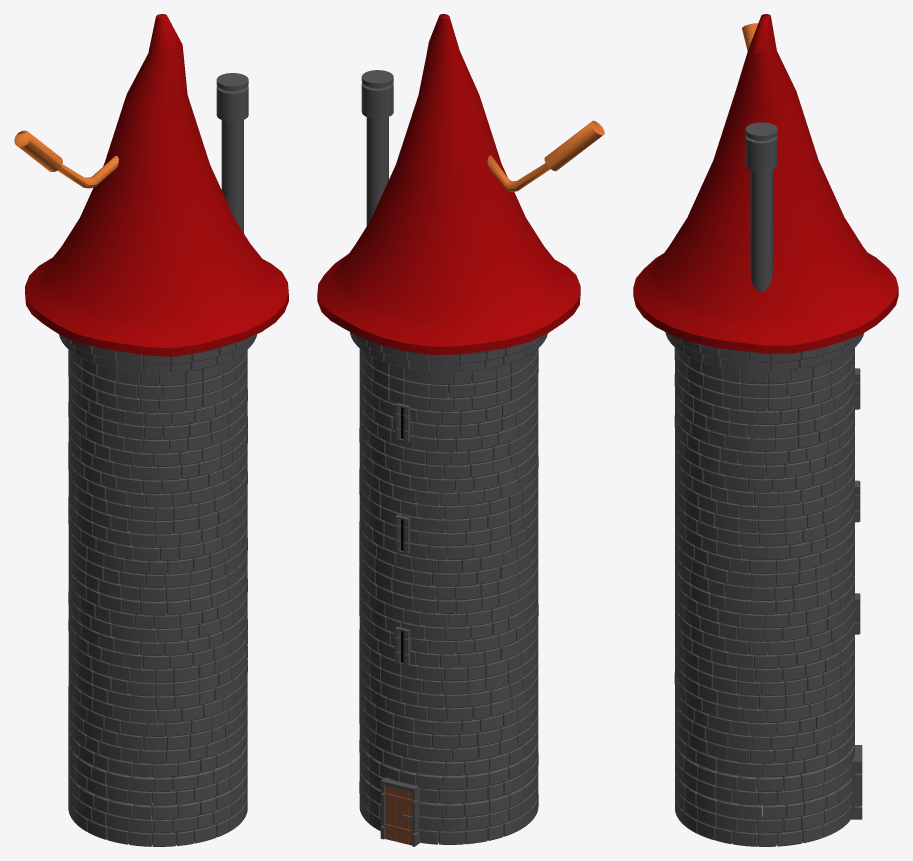
The model's file is Tower.fbx.
3 views of the same model, side by side, from view 1: azimuth 30°, elevation 25°; view 2: azimuth 150°, elevation 25°; view 3: azimuth 270°, elevation 25° (orthographic).
Parts seen in each view (by area): view 1: Cylinder.001; view 2: Cylinder.001; view 3: Cylinder.001.
Part boxes in pixels (<box>): Cylinder.001: <box>14,14,288,846</box>; Cylinder.001: <box>317,14,604,846</box>; Cylinder.001: <box>633,14,898,846</box>.
Bounding box in the file's own units: 338 × 976 × 295.
